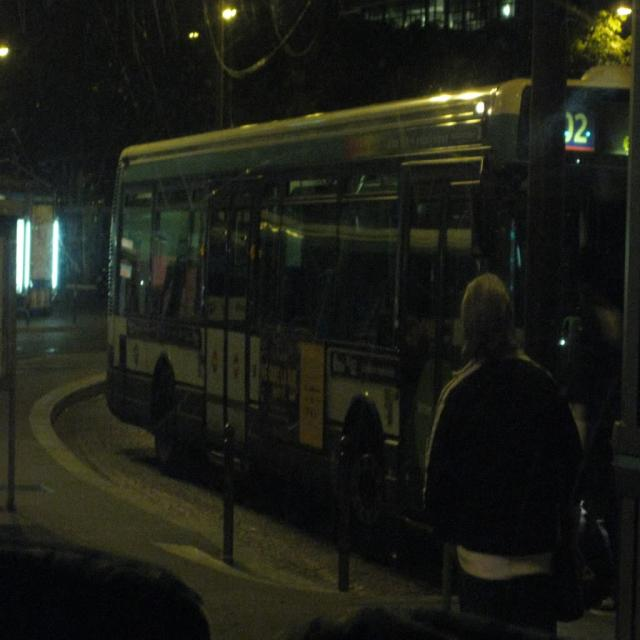Bus: (96, 110, 640, 542)
People: (444, 251, 599, 640)
